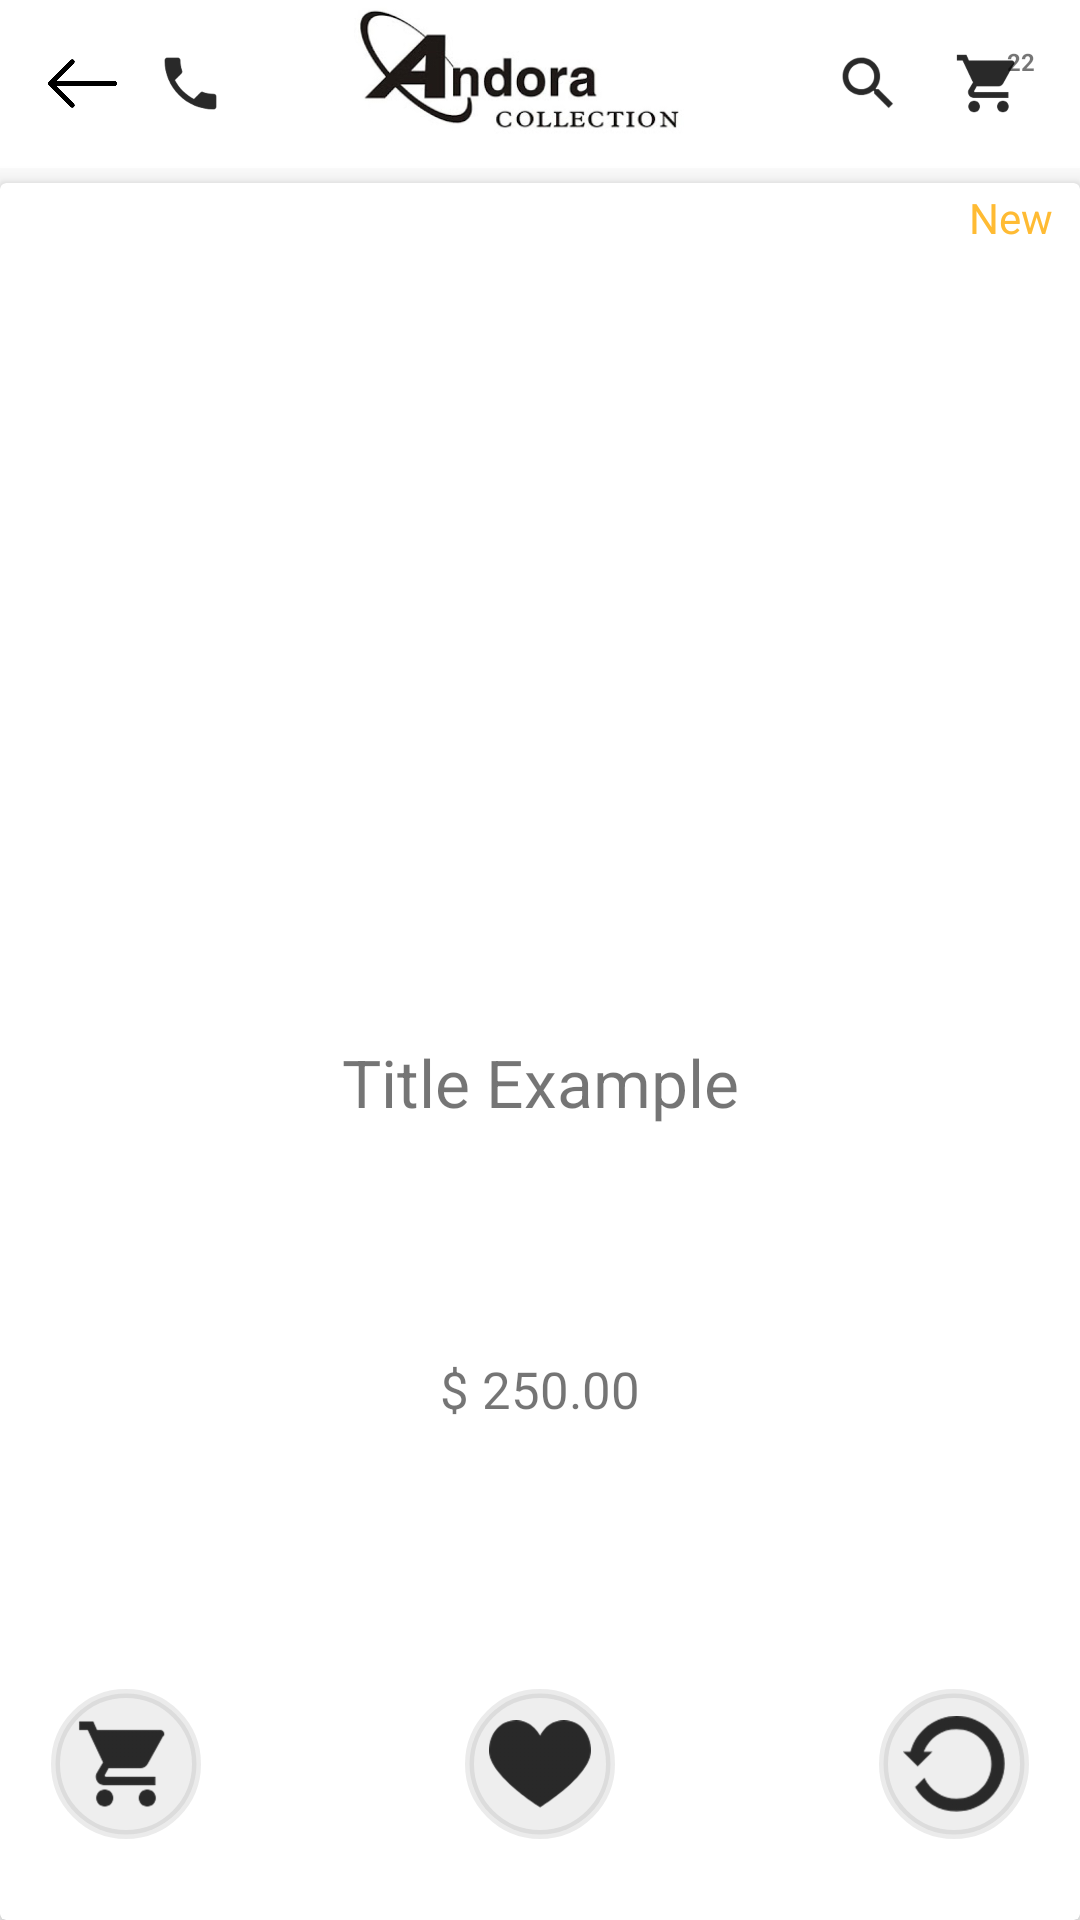

Icon click points for this 1080px×1920px phone screenshot, format (x,y):
call: (190,83)
cart: (988,83), (126,1764)
heart: (540,1764)
left arrow: (82,83)
rotate: (954,1764)
search: (867,82)
